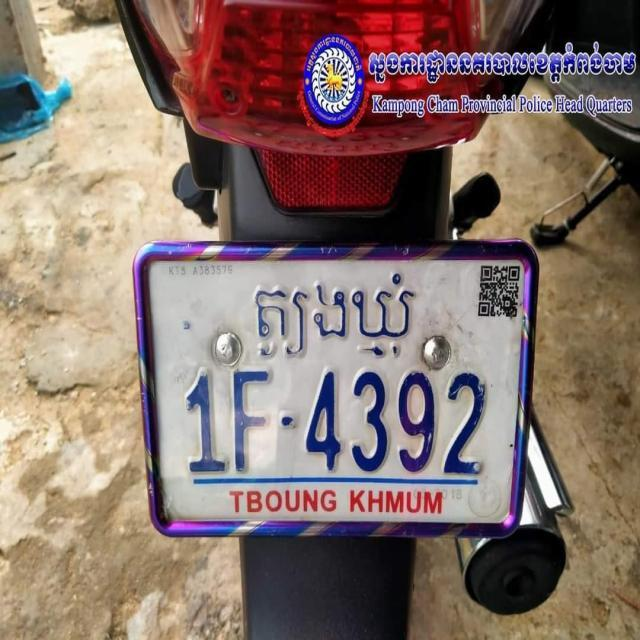Tboung_Khmum: (256, 271, 415, 368)
